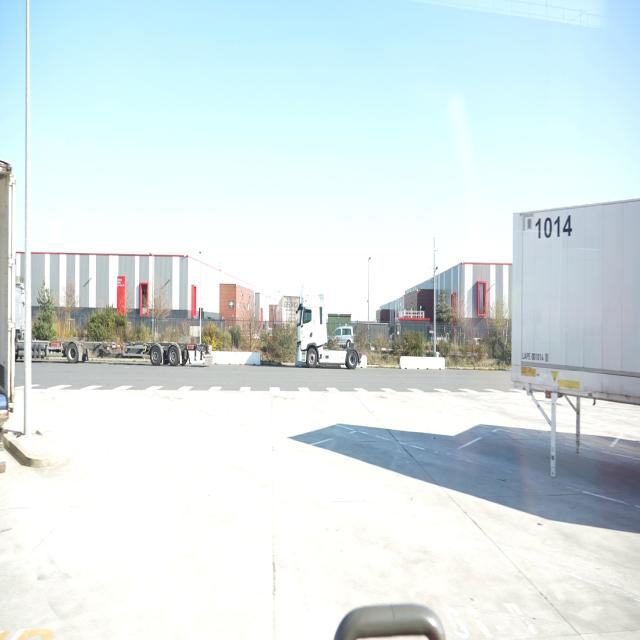Code: (533, 211, 576, 247)
